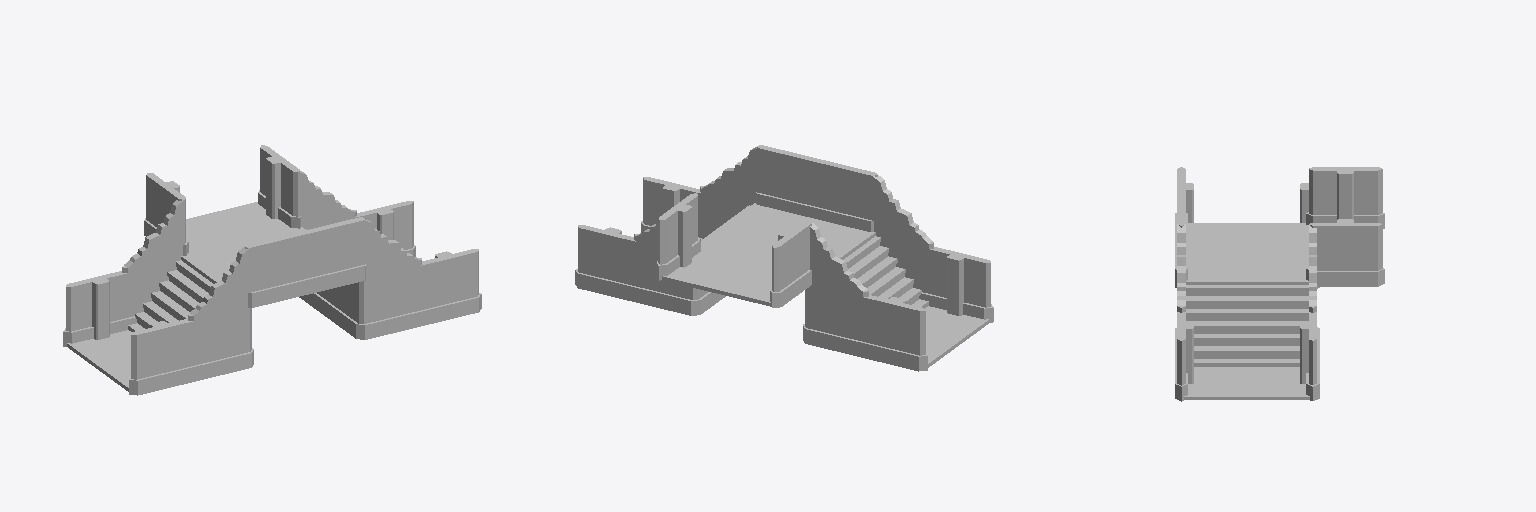
Rendered from intersection_3way_stair_04.obj.
3 renders of one model, left to right at view 1: azimuth 30°, elevation 25°; view 2: azimuth 150°, elevation 25°; view 3: azimuth 270°, elevation 25°, orthographic.
Visible parts, largest first — view 1: stairs_01_59, stairs_01_58, wall_02_72, wall_02_71, wall_02_69, wall_01_57, wall_01_56, floor_04_63, wall_02_70, floor_04_66, floor_01_47, wall_02_68 (+1 smaller); view 2: stairs_01_59, stairs_01_58, floor_01_47, wall_02_69, wall_02_72, wall_02_68, wall_01_57, floor_04_63, wall_01_56, wall_02_67, wall_02_70, floor_04_66 (+1 smaller); view 3: stairs_01_58, floor_01_47, wall_02_70, wall_02_67, floor_04_65, wall_02_68, wall_02_71.
Boxes of the visible parts, <box> form: stairs_01_59: <box>122,197,253,381</box>; stairs_01_58: <box>293,171,421,339</box>; wall_02_72: <box>129,319,195,395</box>; wall_02_71: <box>421,249,481,325</box>; wall_02_69: <box>63,271,128,346</box>; wall_01_57: <box>245,231,308,307</box>; wall_01_56: <box>302,217,365,293</box>; floor_04_63: <box>186,202,287,254</box>; wall_02_70: <box>258,145,300,228</box>; floor_04_66: <box>67,331,131,391</box>; floor_01_47: <box>181,226,305,283</box>; wall_02_68: <box>355,201,415,256</box>; stairs_01_59: <box>803,173,933,357</box>; stairs_01_58: <box>634,147,760,315</box>; floor_01_47: <box>701,203,875,266</box>; wall_02_69: <box>861,295,927,371</box>; wall_02_72: <box>928,247,993,322</box>; wall_02_68: <box>575,225,635,301</box>; wall_01_57: <box>814,159,877,231</box>; floor_04_63: <box>662,251,771,306</box>; wall_01_56: <box>756,145,819,217</box>; wall_02_67: <box>770,221,811,307</box>; wall_02_70: <box>656,193,700,280</box>; floor_04_66: <box>925,306,989,367</box>; stairs_01_58: <box>1175,223,1319,367</box>; floor_01_47: <box>1186,223,1308,284</box>; wall_02_70: <box>1306,219,1384,286</box>; wall_02_67: <box>1306,167,1384,228</box>; floor_04_65: <box>1184,367,1309,399</box>; wall_02_68: <box>1300,312,1319,400</box>; wall_02_71: <box>1175,312,1193,401</box>.
Bounding box in the file's own units: 6.21 × 2 × 3.21.